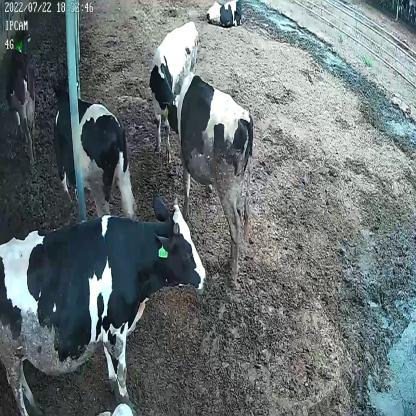cow: (0, 190, 206, 416), (176, 69, 254, 289), (48, 68, 139, 222), (149, 19, 199, 163), (6, 22, 38, 167), (207, 0, 244, 30)
